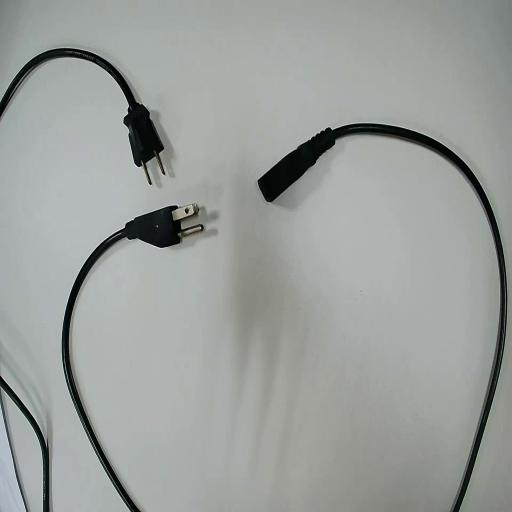wire: (259, 124, 505, 511), (63, 206, 185, 511), (0, 49, 162, 165)
